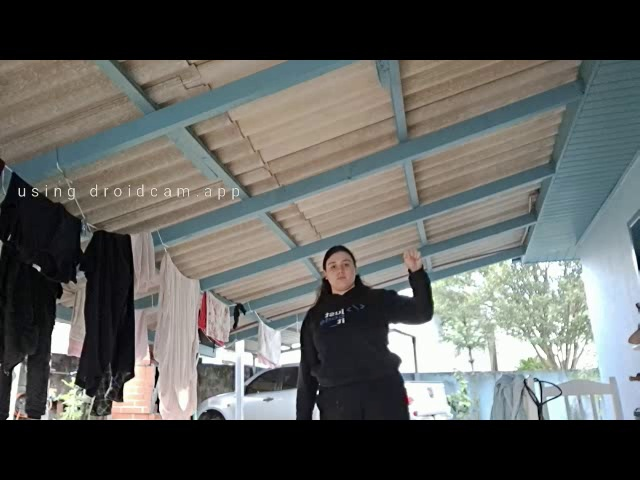MULHER: (309, 232, 374, 313)
SOS: (394, 242, 438, 282)
